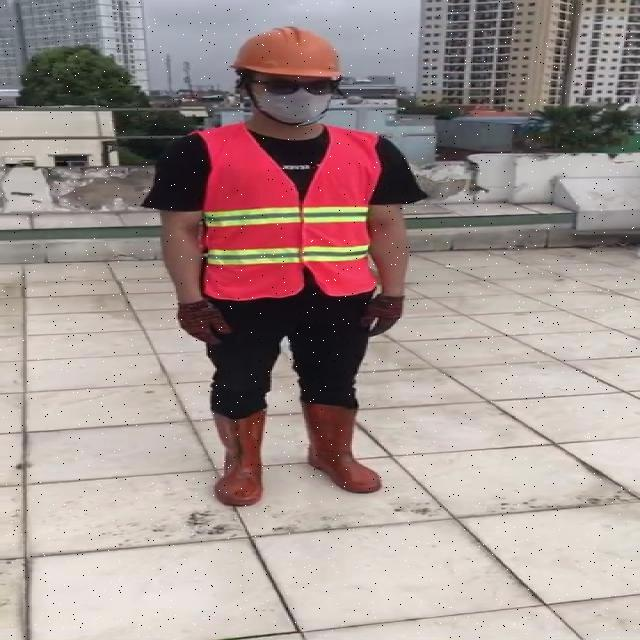Hard_hat: (224, 25, 349, 92)
Vest: (198, 123, 379, 301)
